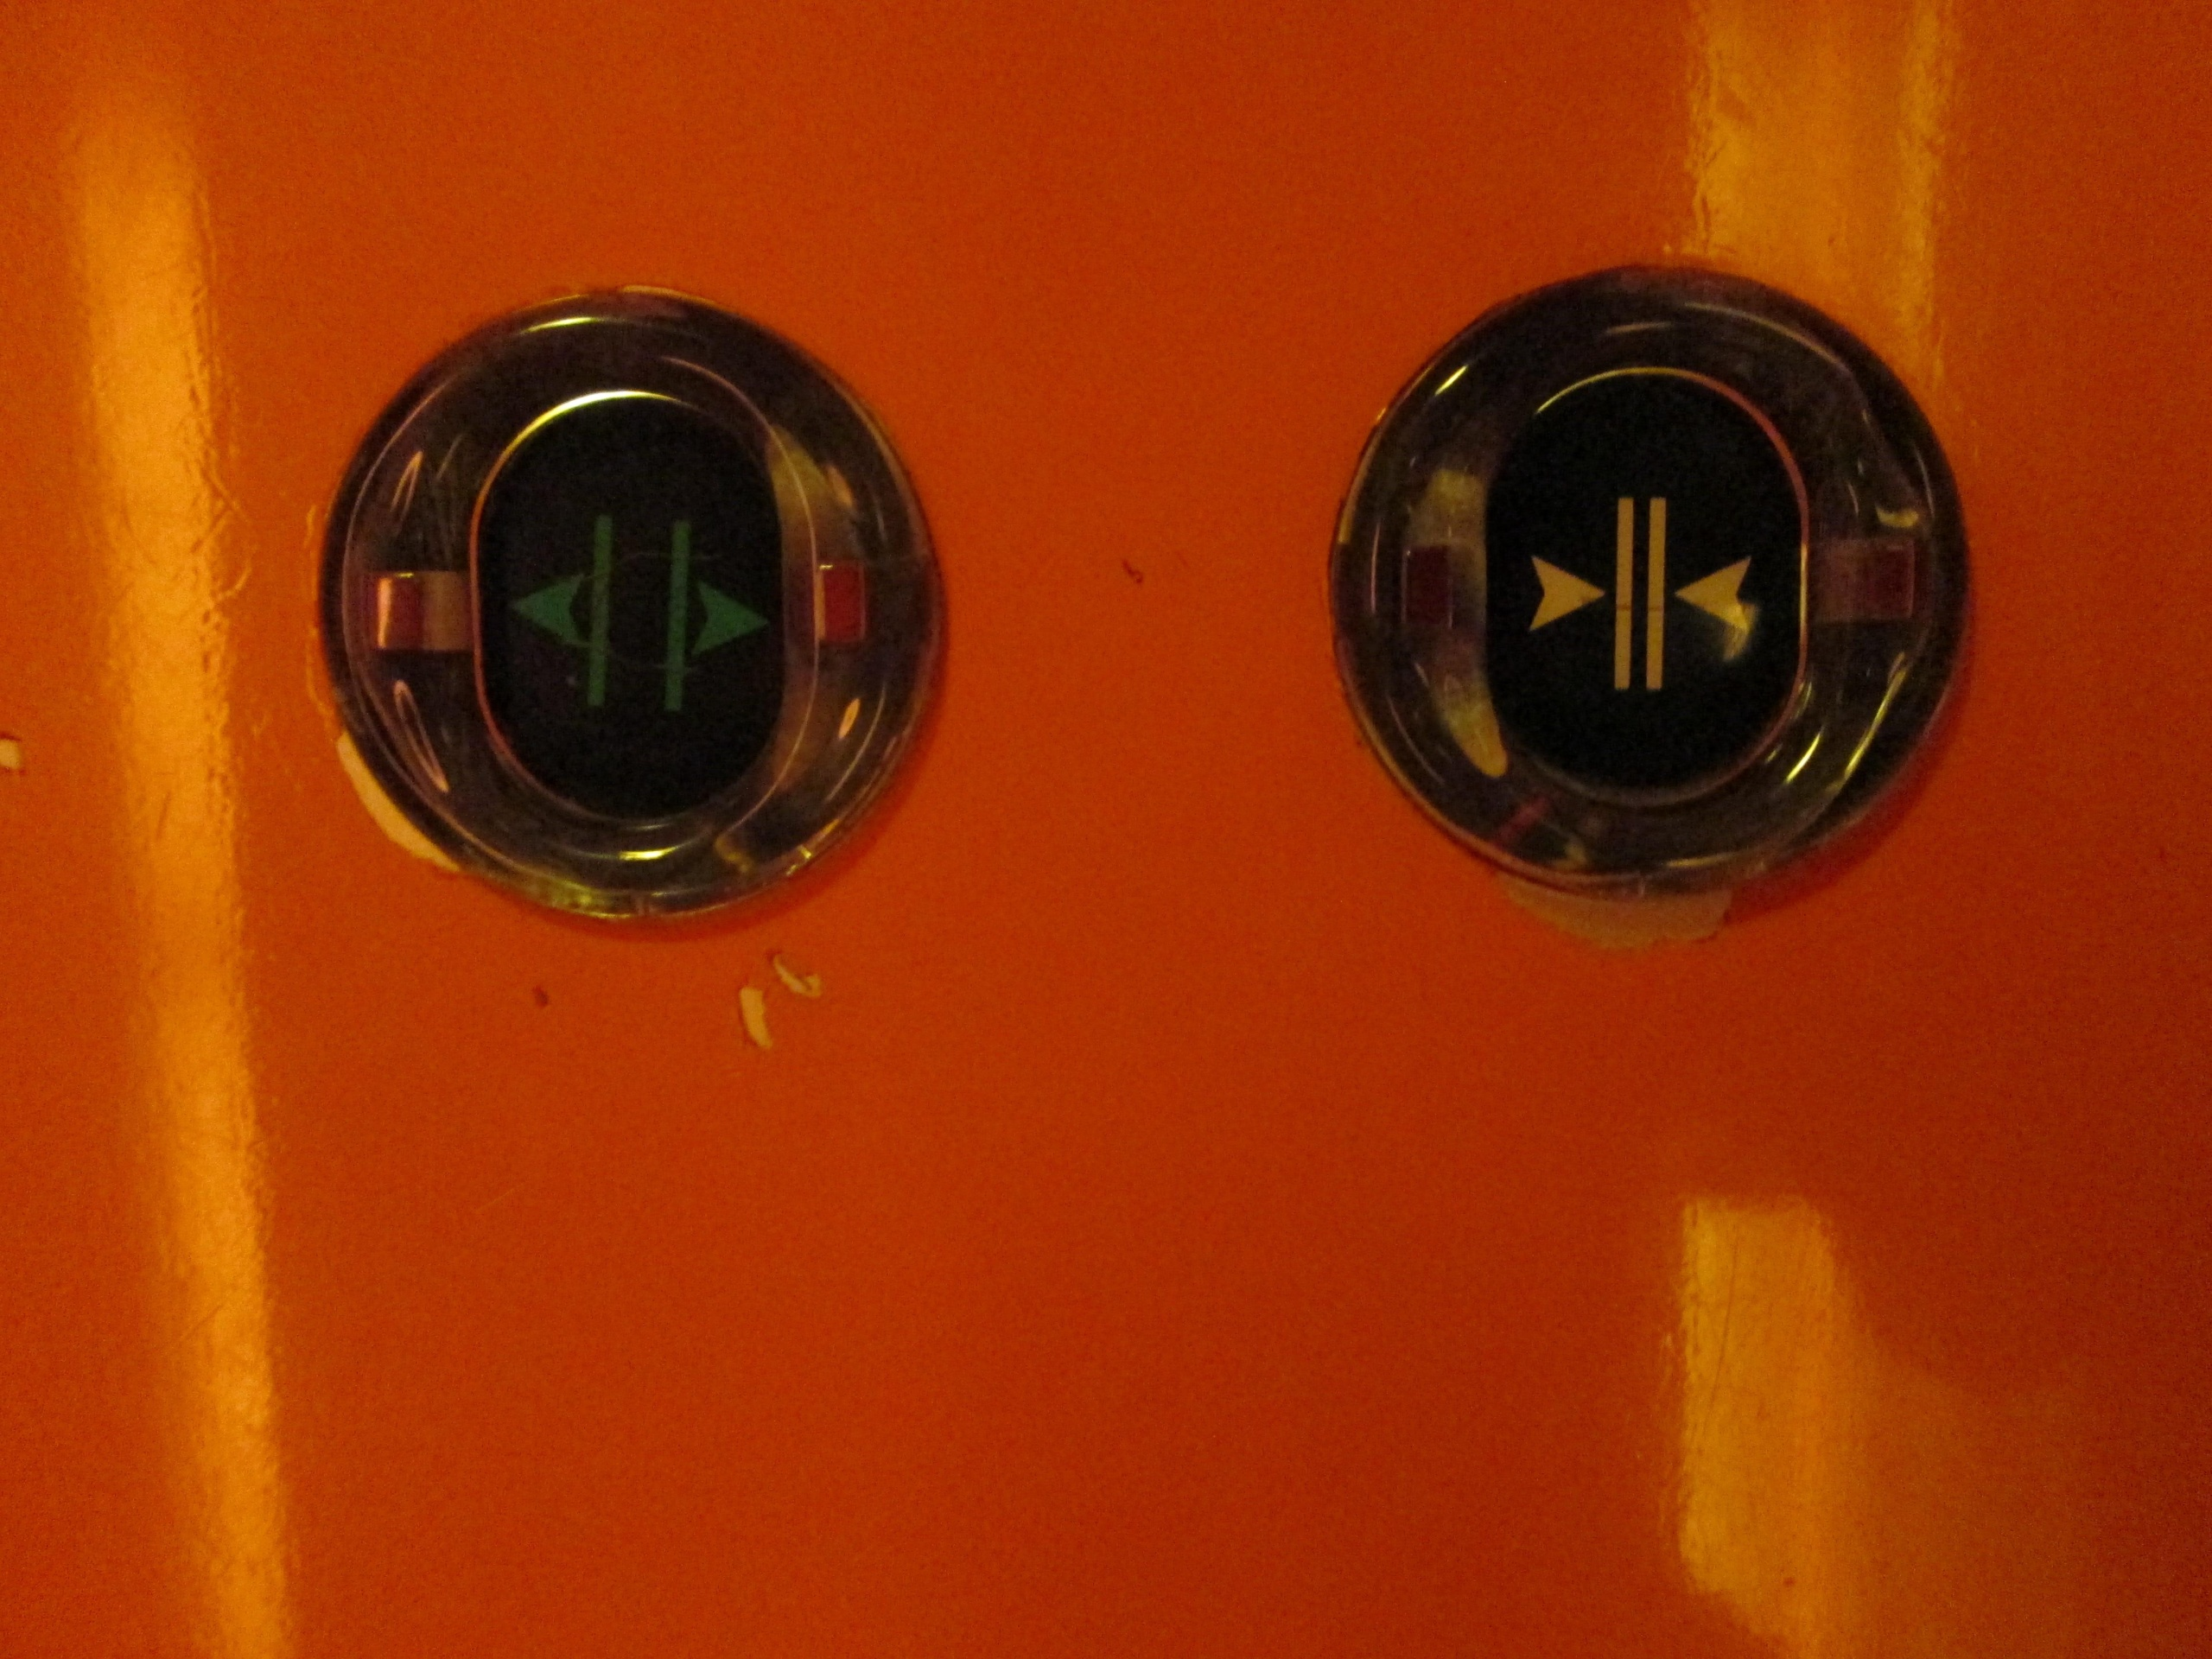close: (1325, 260, 1966, 920)
open: (314, 286, 939, 931)
